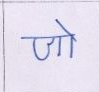o_matra: (62, 22, 78, 58)
